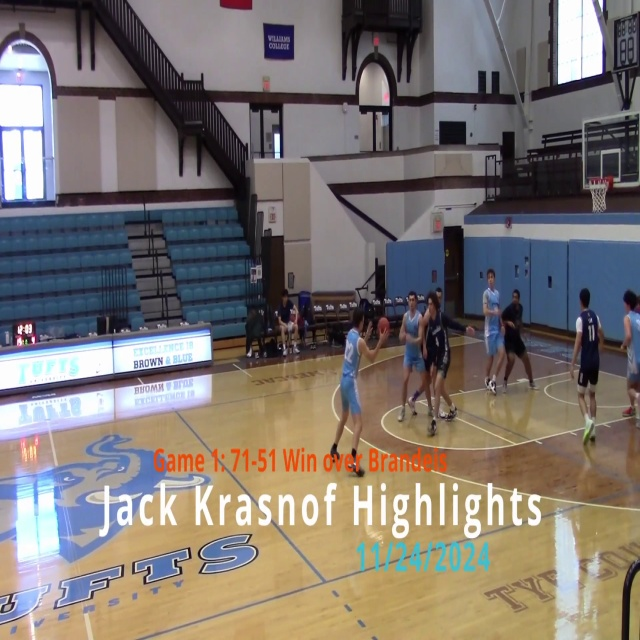Basketball: (377, 317, 389, 335), (287, 321, 294, 332)
